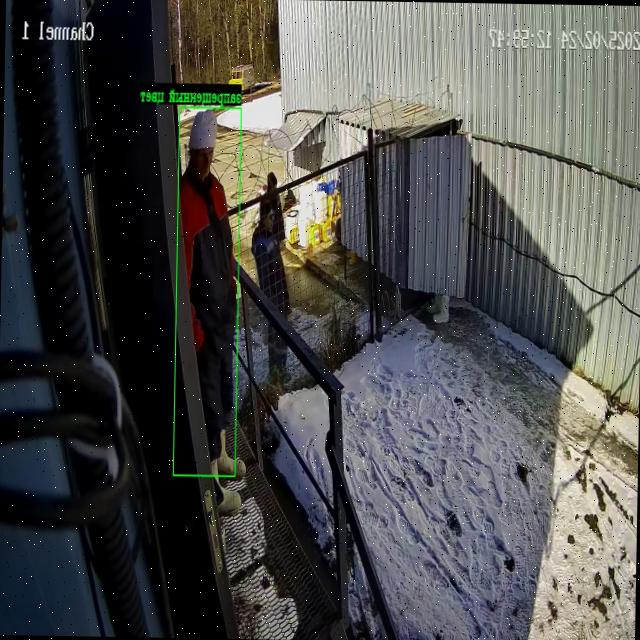Person: (251, 196, 289, 319), (263, 323, 287, 372), (270, 194, 285, 245), (267, 172, 277, 191)
Red uniform: (179, 109, 246, 479)
